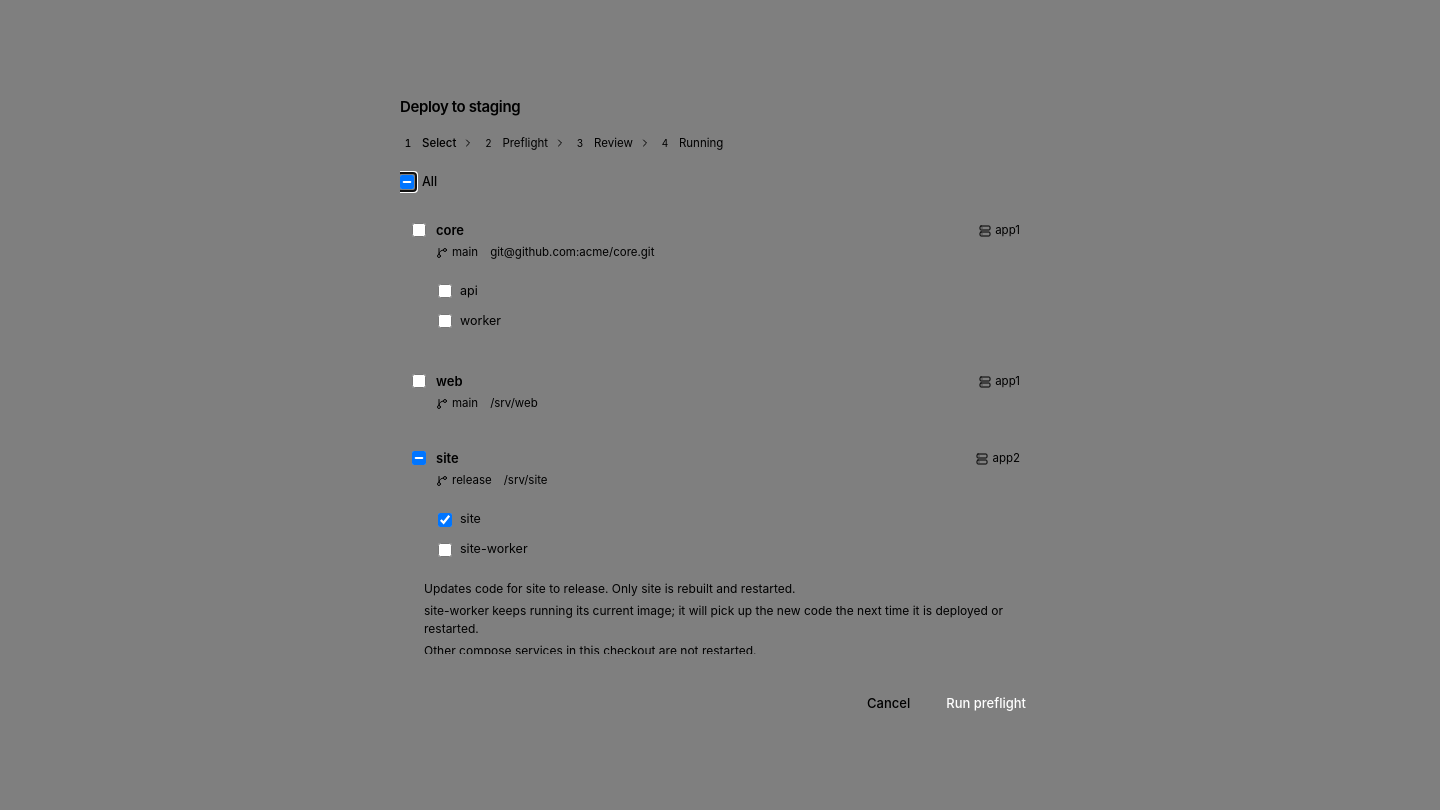
Test case: deploy wizard › a compose database shows as a skipped row with no checkbox and stays out of the notice
Click the button "Run preflight" at (986, 704), box top-left (932, 686), bottom-right (1040, 722)
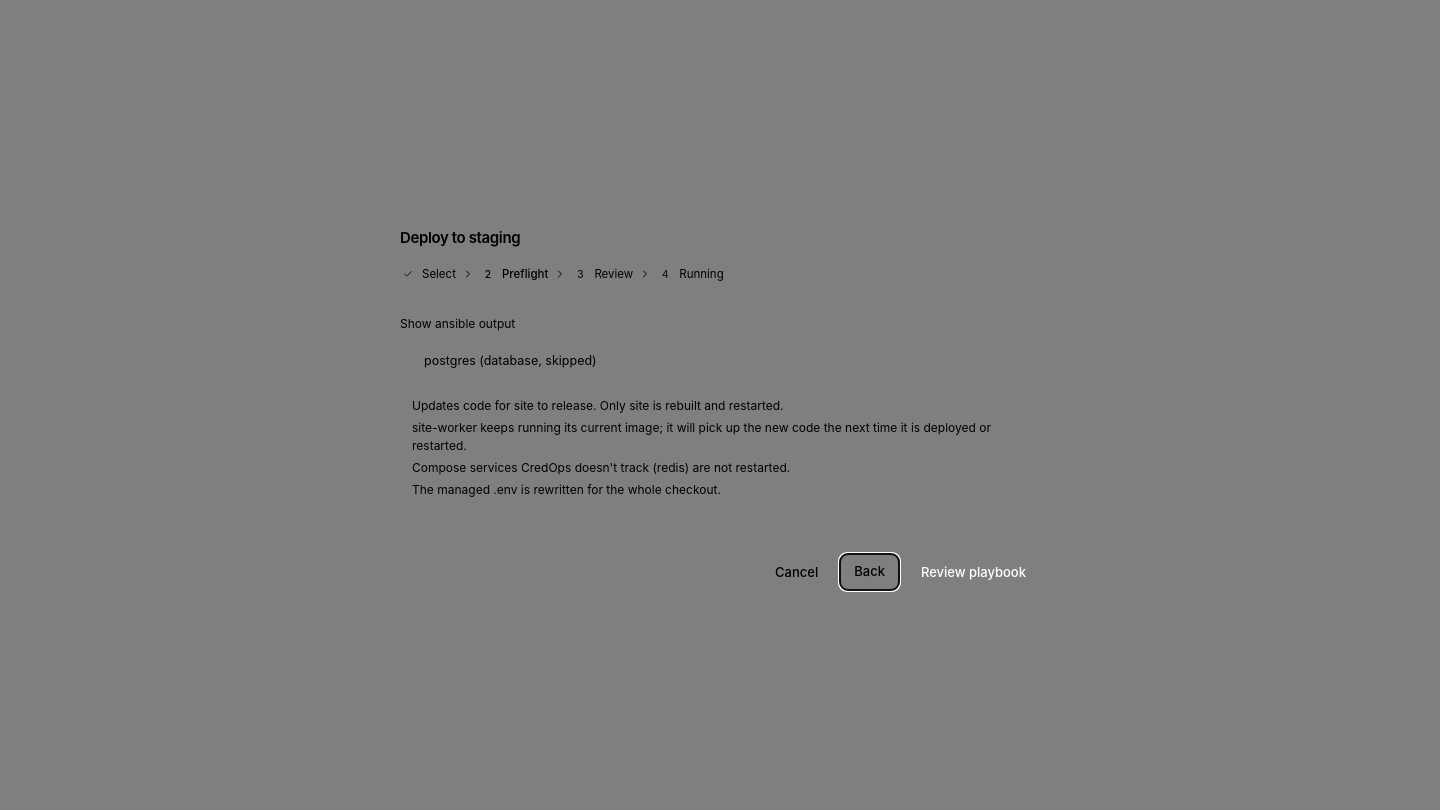
Expected: the list "What happens to site" does not show "postgres"
Expected: the list item "postgres (database, skipped)" is shown, top-left (424, 353), bottom-right (597, 368)
Expected: the list item "Compose services CredOps doesn't track (redis) are not restarted." is shown, top-left (412, 460), bottom-right (790, 475)
